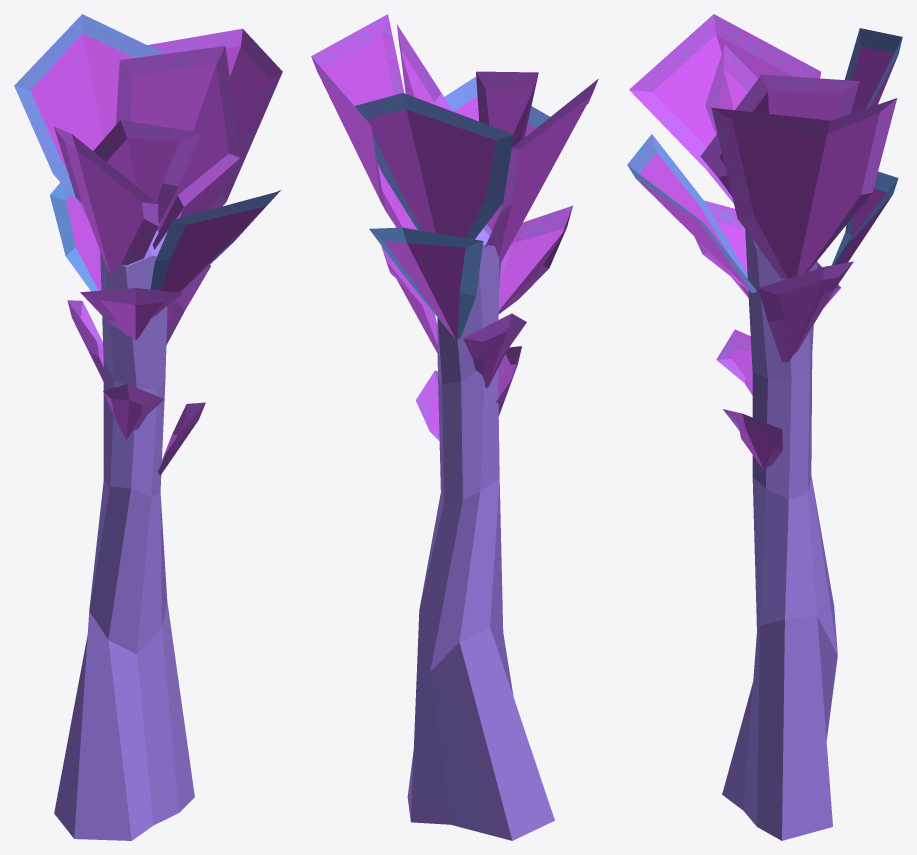
The model's file is 092_CrownTree.fbx.
3 renders of one model, left to right at view 1: azimuth 30°, elevation 25°; view 2: azimuth 150°, elevation 25°; view 3: azimuth 270°, elevation 25°, orthographic. The views are drawn at different scales.
Parts seen in each view (by area): view 1: CrownTree; view 2: CrownTree; view 3: CrownTree.
Boxes of the visible parts, <box> form: CrownTree: <box>14,14,282,840</box>; CrownTree: <box>311,14,598,840</box>; CrownTree: <box>627,14,902,840</box>.
Size of the model in its own units: 45.34 by 143 by 46.02.
